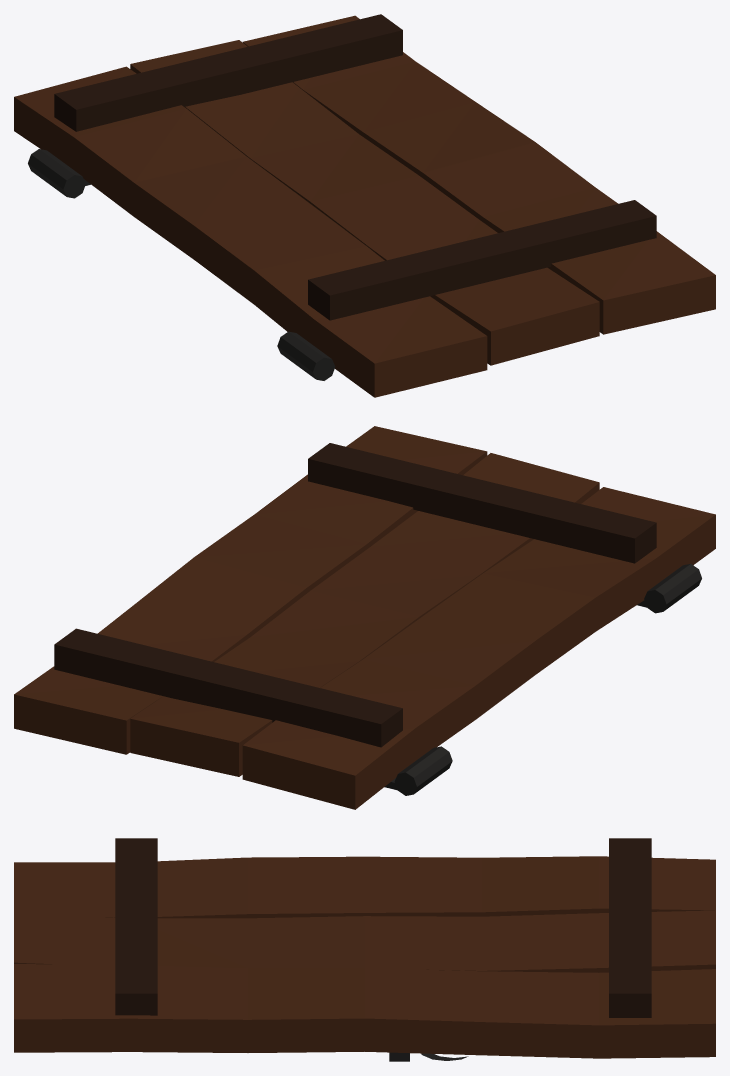
3 views of the same model, one above another, from view 1: azimuth 30°, elevation 25°; view 2: azimuth 150°, elevation 25°; view 3: azimuth 270°, elevation 25° (orthographic). The views are drawn at different scales.
Bounding box in the file's own units: 1.01 × 0.22 × 1.72.
